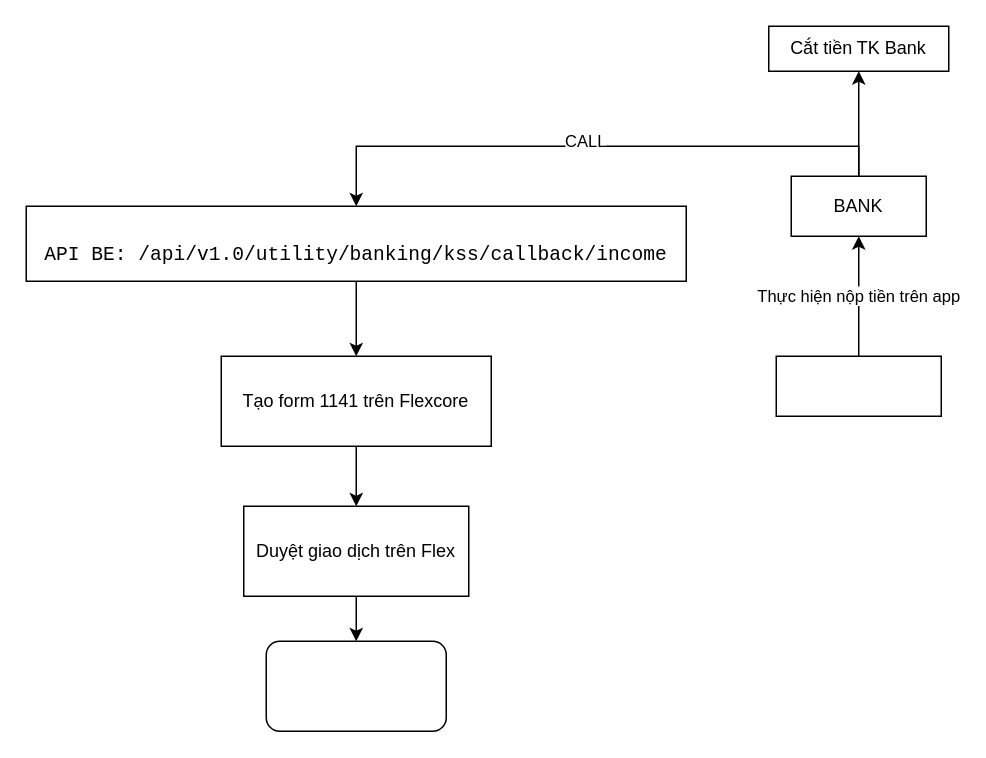
Image size: 986x758. Some labels were removed from this diagram. The centre of each missing label's shape, as x and y in pixels:
APP KSS: the point at 858,385
Xuất hiện trên lịch sử giao dịch: the point at 355,685
